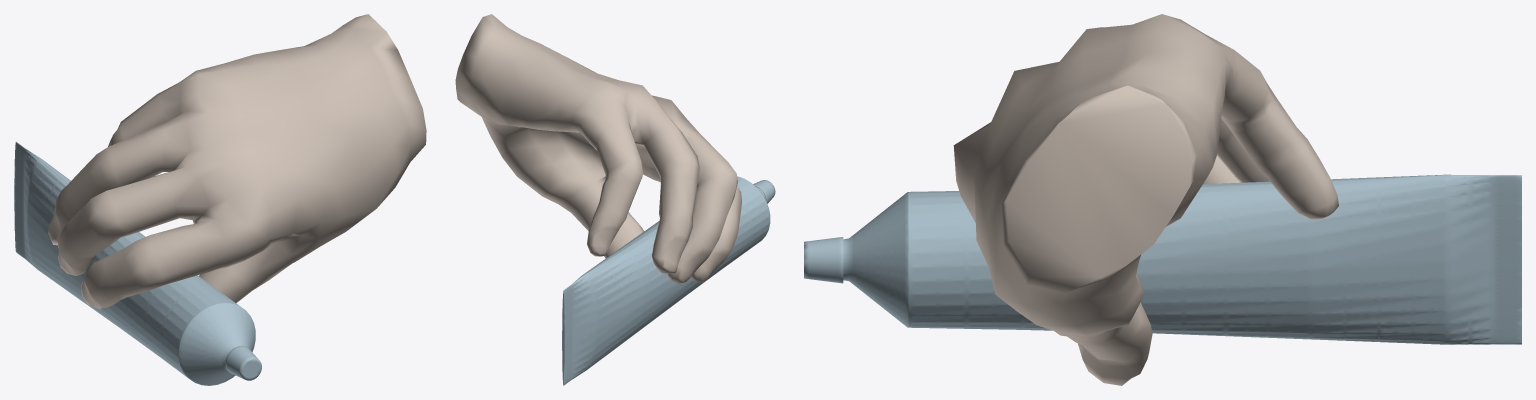
The model's file is grasp_0.glb.
3 renders of one model, left to right at view 1: azimuth 30°, elevation 25°; view 2: azimuth 150°, elevation 25°; view 3: azimuth 270°, elevation 25°, orthographic. The views are drawn at different scales.
Size of the model in its own units: 0.157 by 0.135 by 0.202.
